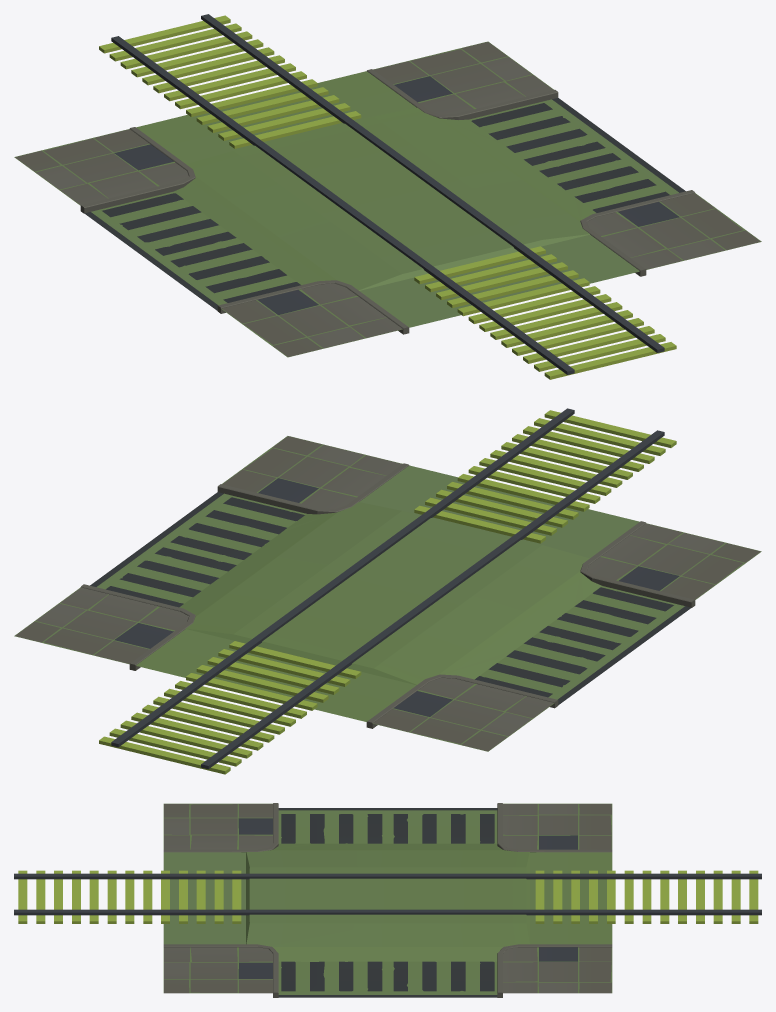
File: Road_46.fbx
3 renders of one model, top to bottom at view 1: azimuth 30°, elevation 25°; view 2: azimuth 150°, elevation 25°; view 3: azimuth 270°, elevation 25°, orthographic. The views are drawn at different scales.
Visible parts, largest first — view 1: Road_46; view 2: Road_46; view 3: Road_46.
Part boxes in pixels (x1,y1,x2,y2): Road_46: [14, 14, 761, 379]; Road_46: [14, 408, 761, 774]; Road_46: [14, 803, 761, 997].
Size of the model in its own units: 12 by 0.2892 by 20.
